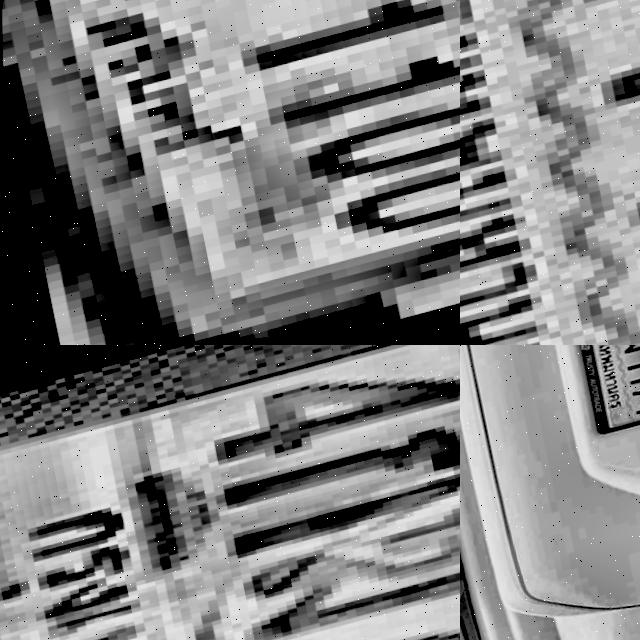license-plate: (0, 0, 460, 345), (0, 345, 460, 640), (460, 0, 640, 345), (565, 345, 640, 446)
